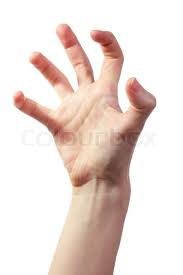hand: (6, 10, 166, 208)
